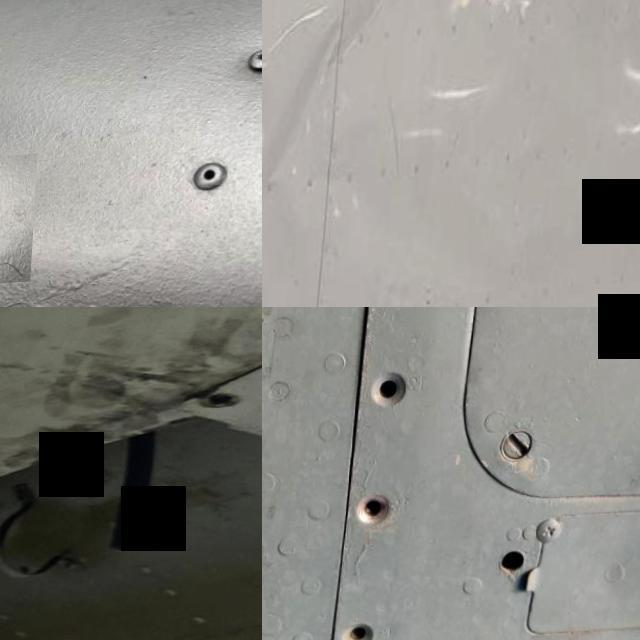Dent: (262, 0, 395, 201), (0, 158, 40, 293)
Missing_Fastener: (318, 467, 426, 560), (340, 344, 438, 442), (319, 594, 402, 640), (198, 395, 248, 426)
